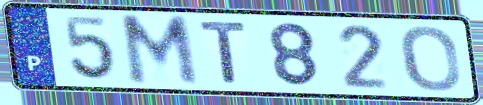2: (335, 22, 391, 91)
5: (62, 15, 119, 82)
8: (267, 21, 323, 88)
M: (116, 13, 202, 90)
O: (398, 24, 464, 94)
T: (197, 20, 250, 86)
